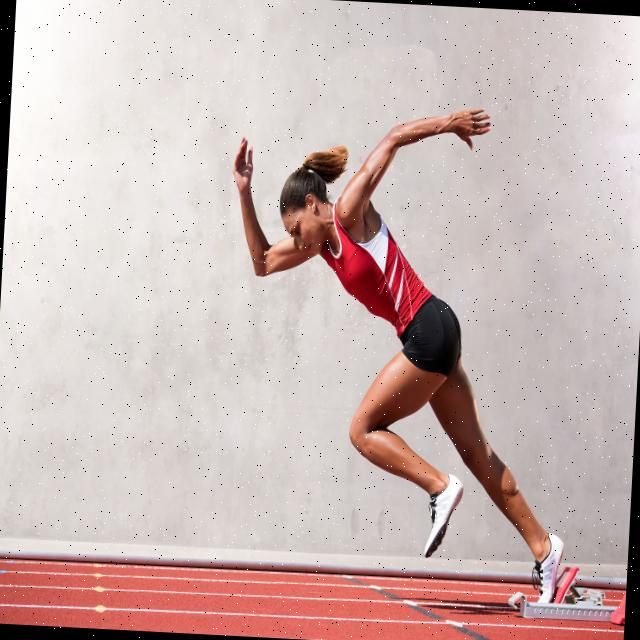Person: (211, 93, 586, 605)
